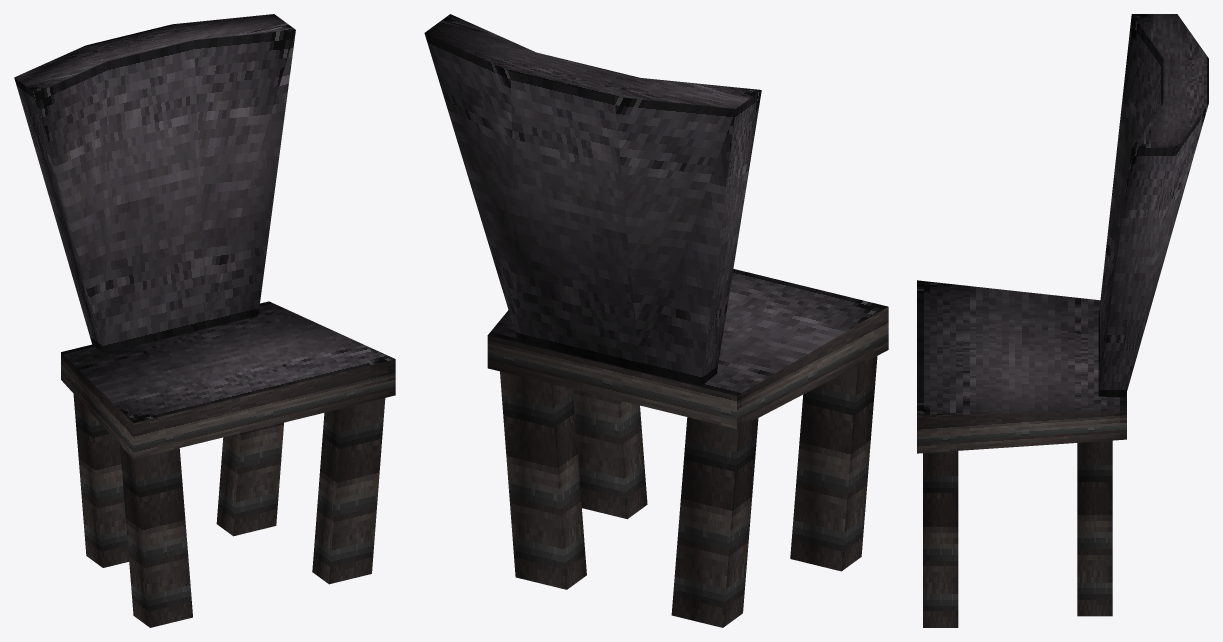
The model's file is CHAIR2D_ACTORDEF.fbx.
3 renders of one model, left to right at view 1: azimuth 30°, elevation 25°; view 2: azimuth 150°, elevation 25°; view 3: azimuth 270°, elevation 25°, orthographic. The views are drawn at different scales.
Visible parts, largest first — view 1: U3DMesh; view 2: U3DMesh; view 3: U3DMesh.
Boxes of the visible parts, x1,y1,x2,y2 form: U3DMesh: (14,14,395,627); U3DMesh: (424,14,888,627); U3DMesh: (917,14,1208,627).
Size of the model in its own units: 3.45 by 5.82 by 3.13.
